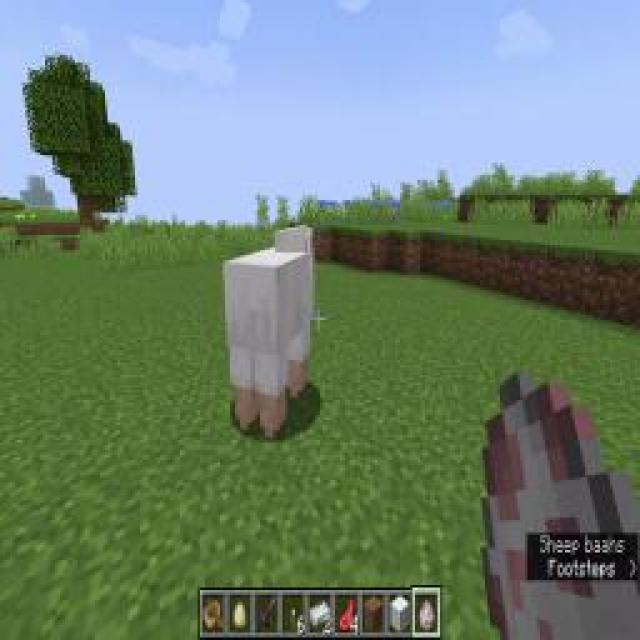Sheep: (222, 220, 318, 445)
